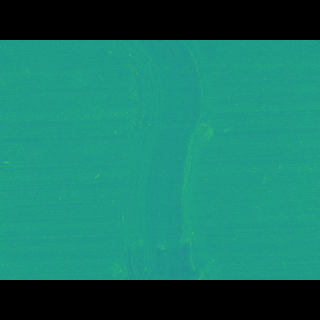Loch: (101, 69, 227, 251)
